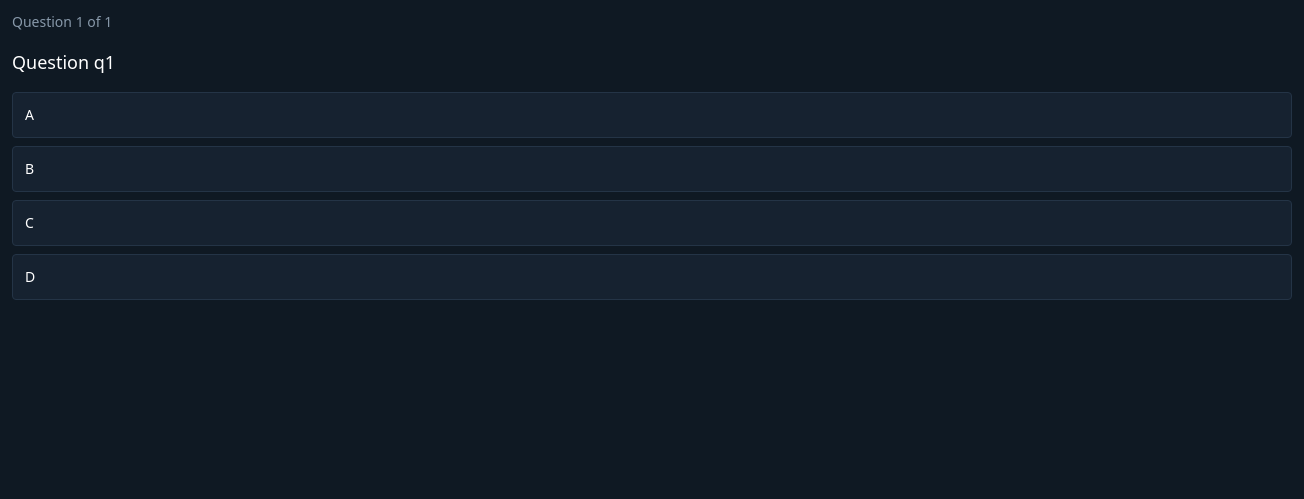
it: QuizRunner › reveals explanation after answering
What coordinates should you click on to do the following:
click the button "A"
I would click on:
 (29, 114)
Its box is [12, 92, 1292, 138].
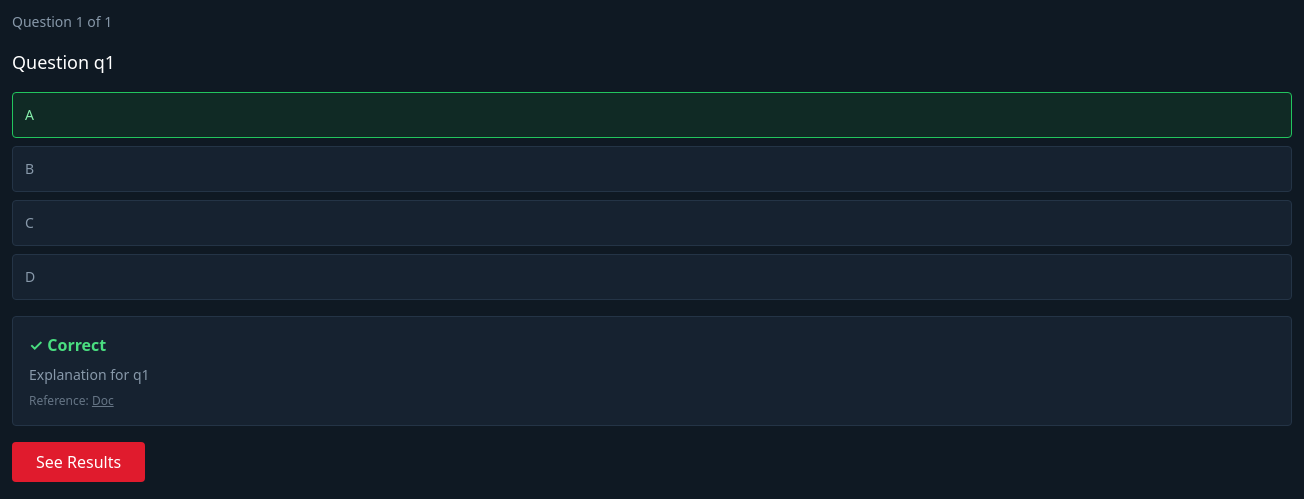
Check: the text "Explanation for q1" is shown, box [29, 365, 150, 384]
